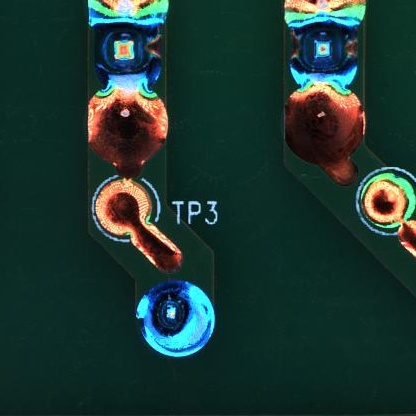spot: (138, 281, 216, 359), (287, 17, 362, 77), (89, 24, 162, 80)
